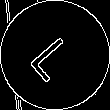L_NE: (26, 27, 84, 83)
